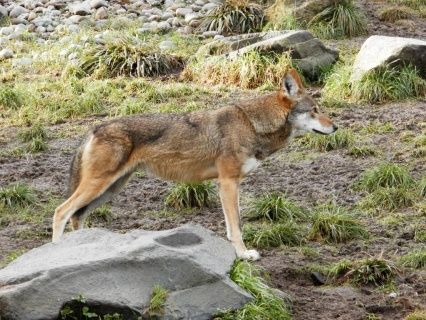Fox: (53, 69, 339, 261)
